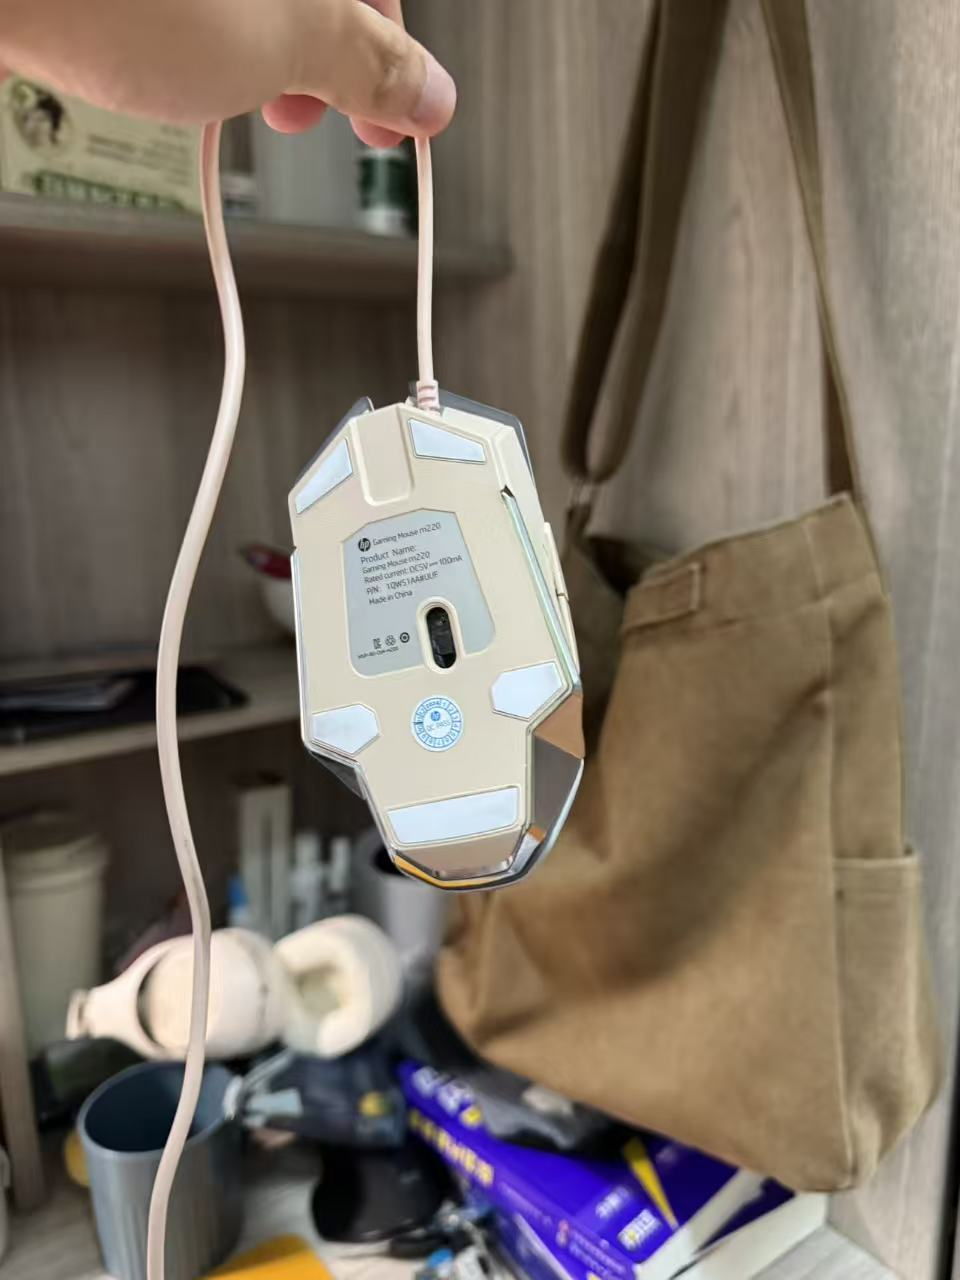mouse: (290, 372, 592, 903)
